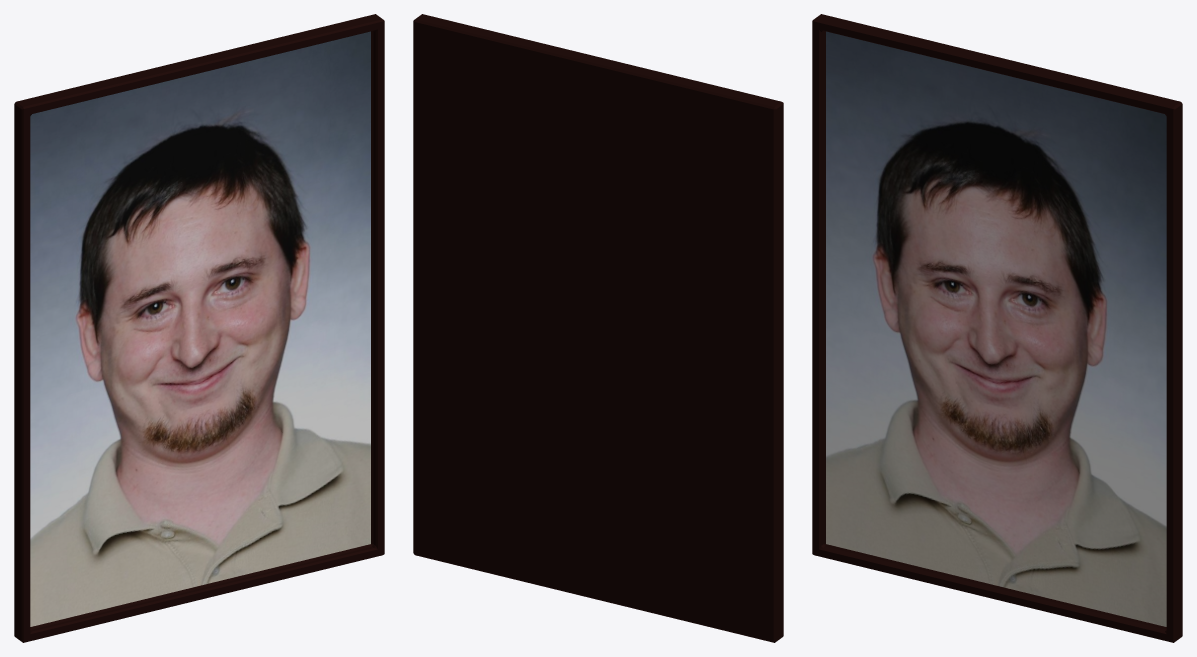
The model's file is aws_PortraitC_01_visual.DAE.
The picture shows the model from 3 angles, left to right: view 1: azimuth 30°, elevation 25°; view 2: azimuth 150°, elevation 25°; view 3: azimuth 330°, elevation 25°; orthographic projection.
Parts seen in each view (by area): view 1: aws_PortraitC_01_visual; view 2: aws_PortraitC_01_visual; view 3: aws_PortraitC_01_visual.
Part boxes in pixels (x1,y1,x2,y2): aws_PortraitC_01_visual: (14, 14, 384, 642); aws_PortraitC_01_visual: (413, 14, 783, 642); aws_PortraitC_01_visual: (812, 14, 1182, 642).
Bounding box in the file's own units: 49.04 × 2.14 × 69.18.
Materials: 2 (2 with a texture image).
